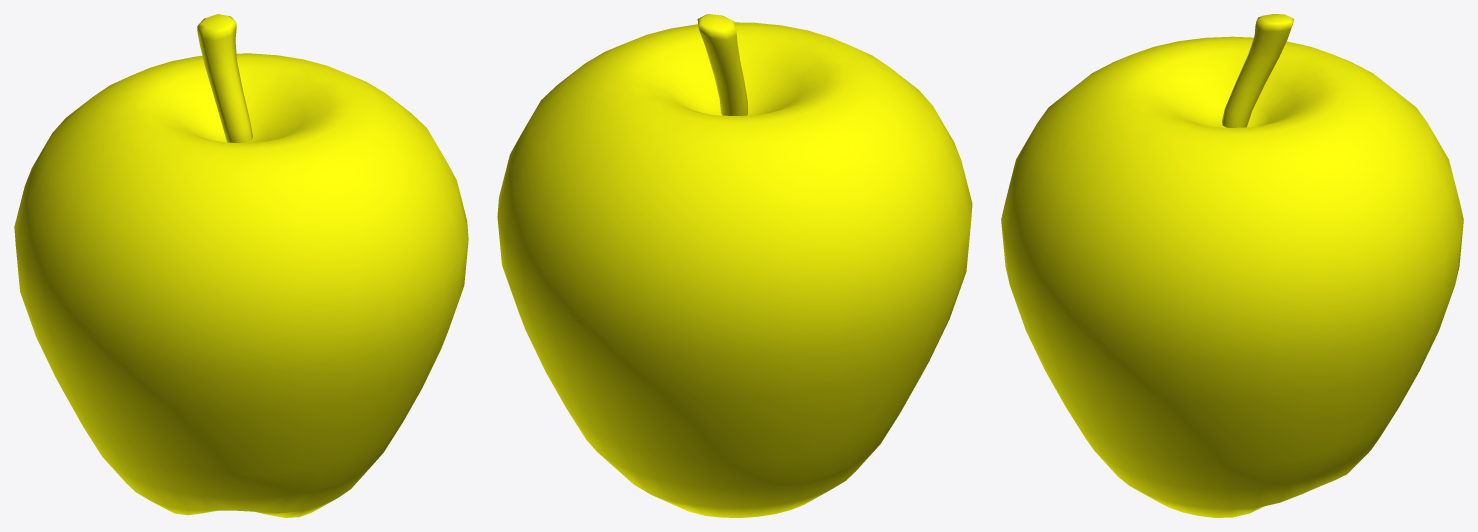
3 views of the same model, side by side, from view 1: azimuth 30°, elevation 25°; view 2: azimuth 150°, elevation 25°; view 3: azimuth 270°, elevation 25° (orthographic). The views are drawn at different scales.
Visible parts, largest first — view 1: Apple1; view 2: Apple1; view 3: Apple1.
Part boxes in pixels (x1=…): Apple1: x1=14, y1=14, x2=468, y2=517; Apple1: x1=497, y1=14, x2=972, y2=517; Apple1: x1=1001, y1=14, x2=1463, y2=517.
Bounding box in the file's own units: 0.00714 × 0.00789 × 0.00714.
1 material, 1 textured.
